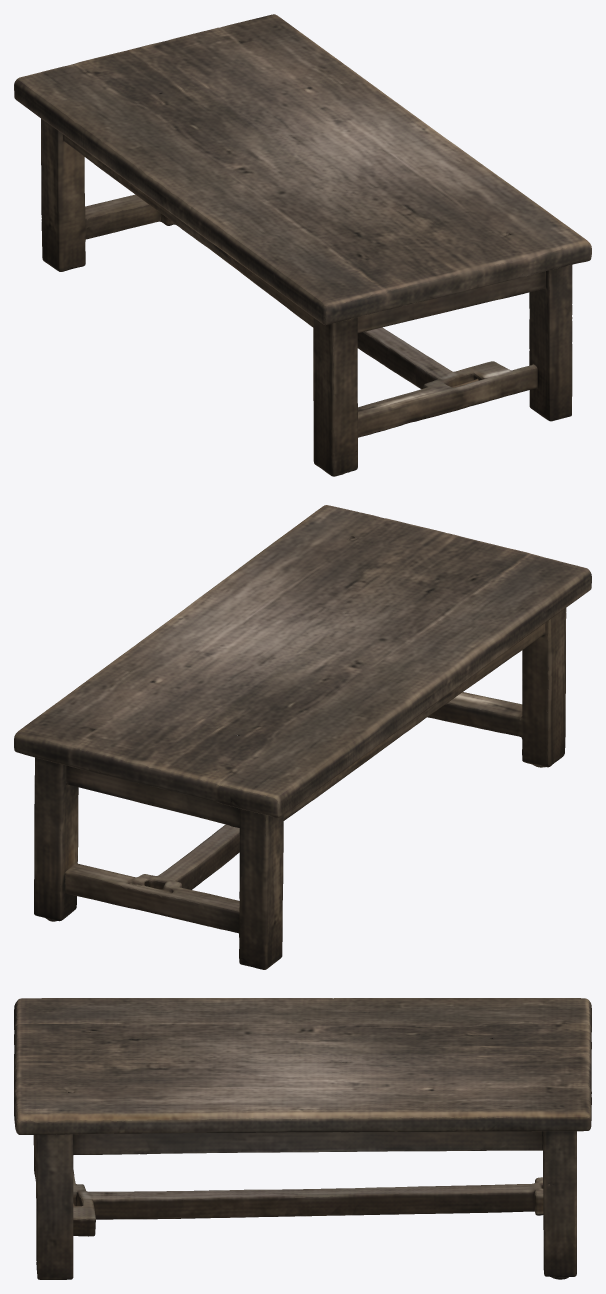
The model's file is table-optimized.glb.
3 renders of one model, top to bottom at view 1: azimuth 30°, elevation 25°; view 2: azimuth 150°, elevation 25°; view 3: azimuth 270°, elevation 25°, orthographic. The views are drawn at different scales.
Parts seen in each view (by area): view 1: world; view 2: world; view 3: world.
Boxes of the visible parts, left/top/right/bottom form: world: left=14, top=14, right=591, bottom=476; world: left=14, top=505, right=591, bottom=969; world: left=14, top=998, right=591, bottom=1279.
Size of the model in its own units: 0.4956 by 0.3354 by 1.
Materials: 1 (1 with a texture image).
